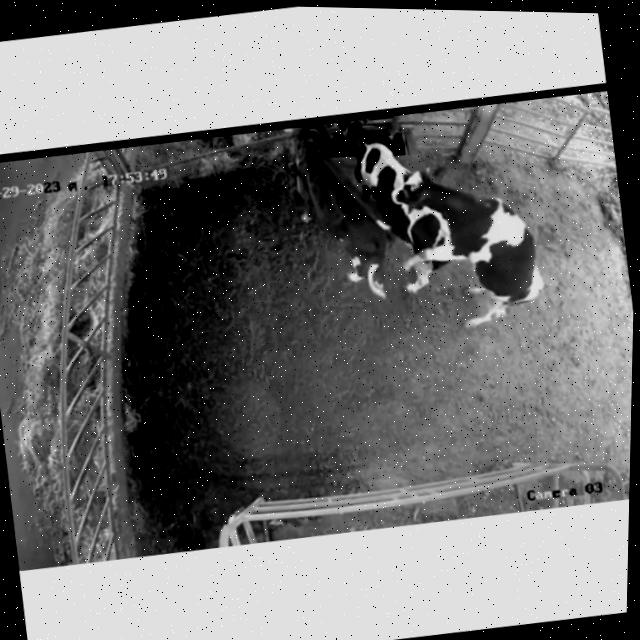drink: (337, 115, 388, 168), (286, 122, 336, 166)
ride: (383, 150, 563, 353)
